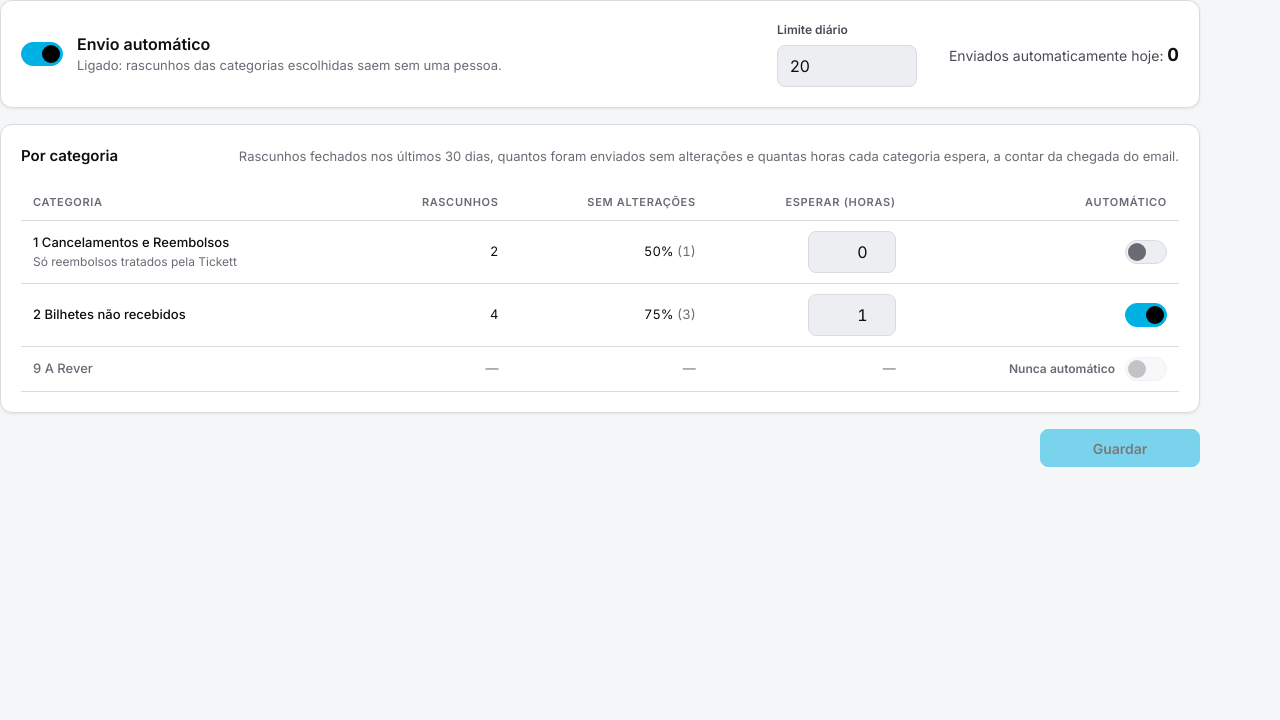
Test: AutoSend › refuses a wait outside 0 to 720 hours without asking the server
The width and height of the screenshot is (1280, 720).
Replace the text in the number field named "Esperar (horas): 2 Bilhetes não recebidos" with "721" at [852, 315], box [808,294,896,336]
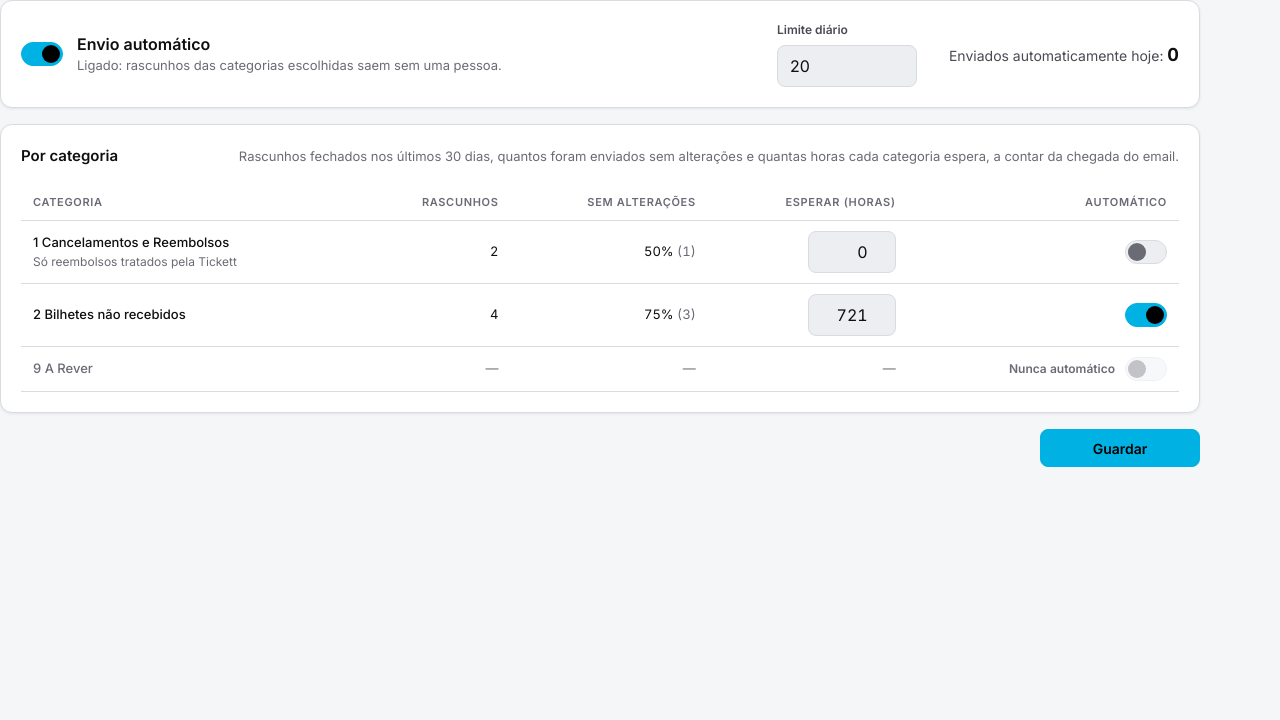
Click the button "Guardar".
click(1120, 448)  # box [1040,429,1200,467]
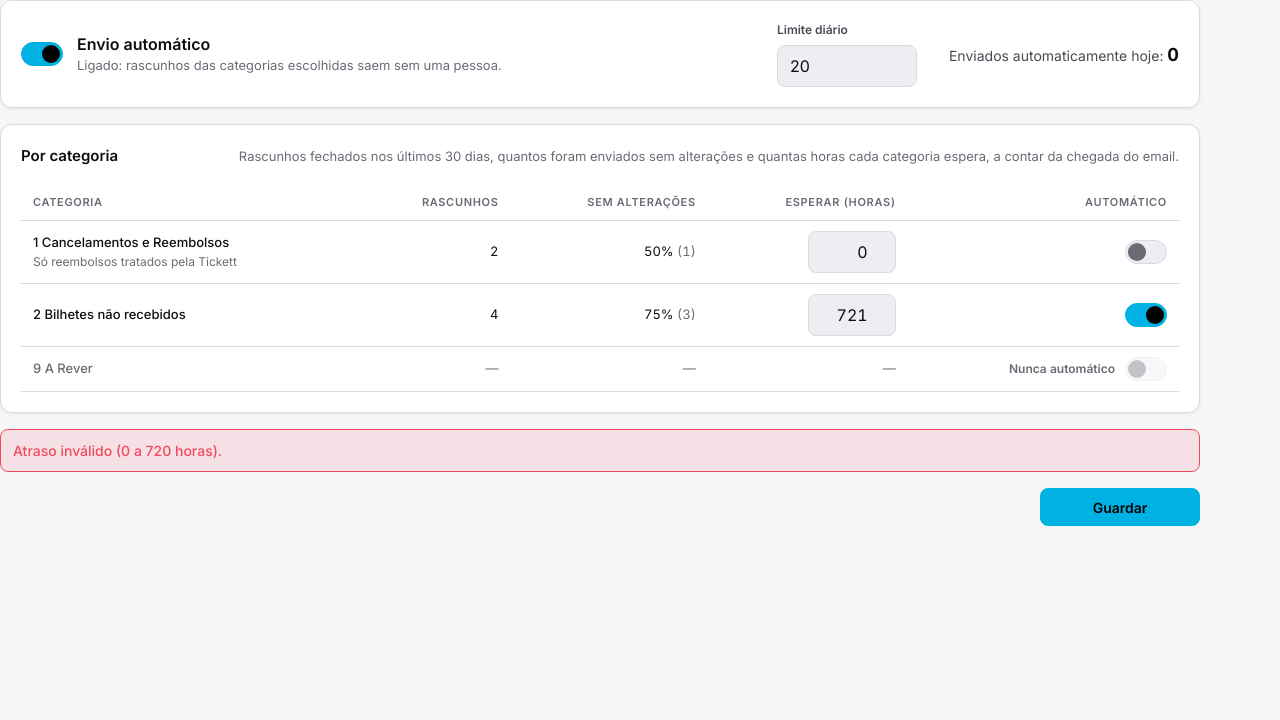
Result: the text "Atraso inválido (0 a 720 horas)." is shown at [0,429,1200,472]
